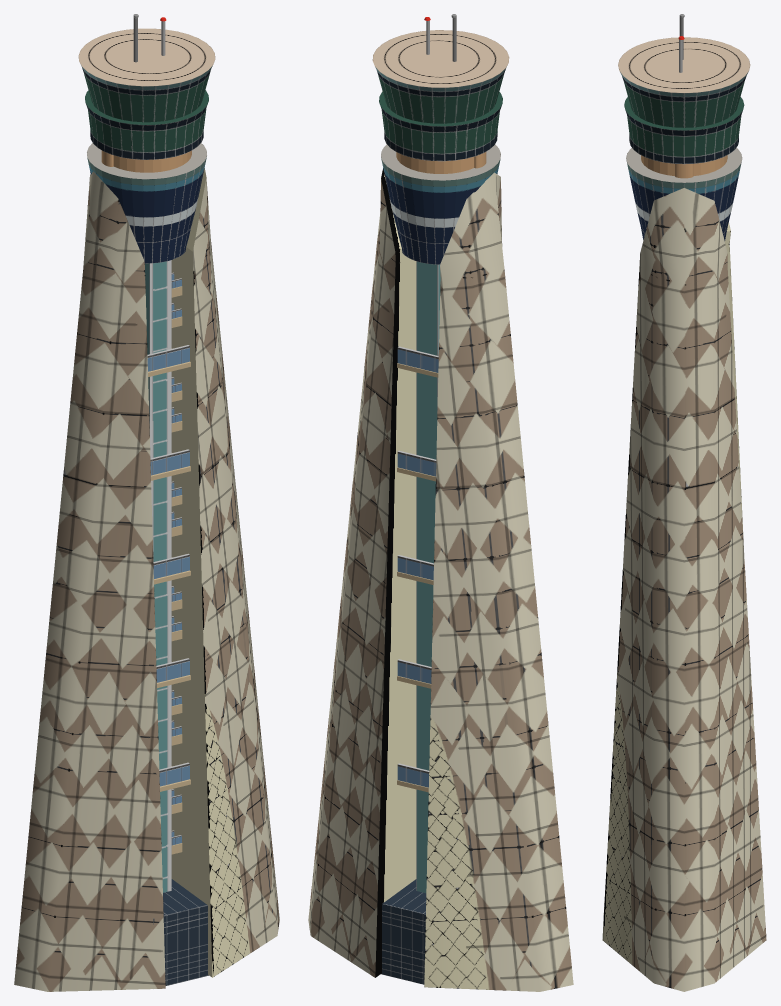
The model's file is Delhi ATC.glb.
The picture shows the model from 3 angles, left to right: view 1: azimuth 30°, elevation 25°; view 2: azimuth 150°, elevation 25°; view 3: azimuth 270°, elevation 25°; orthographic projection. The views are drawn at different scales.
Parts seen in each view (by area): view 1: Cube.002, Cube.001, Cylinder.004, Cube, Cylinder.001, Cylinder.003, Cube.003, Cylinder, Cube.025, Cube.024, Cube.023, Cube.022; view 2: Cube.002, Cube.001, Cylinder.004, Cube, Cylinder.001, Cylinder.003, Cube.003, Cylinder, Cube.030, Cube.029, Cube.028, Cube.027; view 3: Cube.001, Cylinder.004, Cylinder.003, Cylinder.001, Cube.002, Cylinder.
Boxes of the visible parts, box(x1,y1,x2,y2) form: Cube.002: box(14, 171, 165, 991); Cube.001: box(171, 168, 279, 977); Cylinder.004: box(78, 28, 215, 122); Cube: box(145, 260, 171, 892); Cylinder.001: box(87, 143, 206, 263); Cylinder.003: box(85, 90, 208, 159); Cube.003: box(153, 879, 208, 985); Cylinder: box(113, 150, 191, 172); Cube.025: box(147, 345, 189, 371); Cube.024: box(150, 449, 189, 475); Cube.023: box(153, 553, 189, 578); Cube.022: box(156, 658, 189, 682); Cube.002: box(424, 172, 573, 991); Cube.001: box(308, 168, 416, 977); Cylinder.004: box(372, 30, 509, 123); Cube: box(416, 261, 440, 893); Cylinder.001: box(381, 144, 500, 264); Cylinder.003: box(379, 91, 502, 161); Cube.003: box(381, 879, 426, 984); Cylinder: box(396, 152, 474, 173); Cube.030: box(397, 346, 438, 372); Cube.029: box(397, 450, 436, 476); Cube.028: box(397, 555, 433, 580); Cube.027: box(397, 659, 431, 683); Cube.001: box(602, 188, 766, 991); Cylinder.004: box(618, 37, 750, 127); Cylinder.003: box(624, 97, 744, 164); Cylinder.001: box(626, 148, 742, 241); Cube.002: box(603, 222, 743, 914); Cylinder: box(641, 155, 727, 175).
Bounding box in the file's own units: 31.96 × 108 × 17.7.
Materials: 32 (8 with a texture image).
